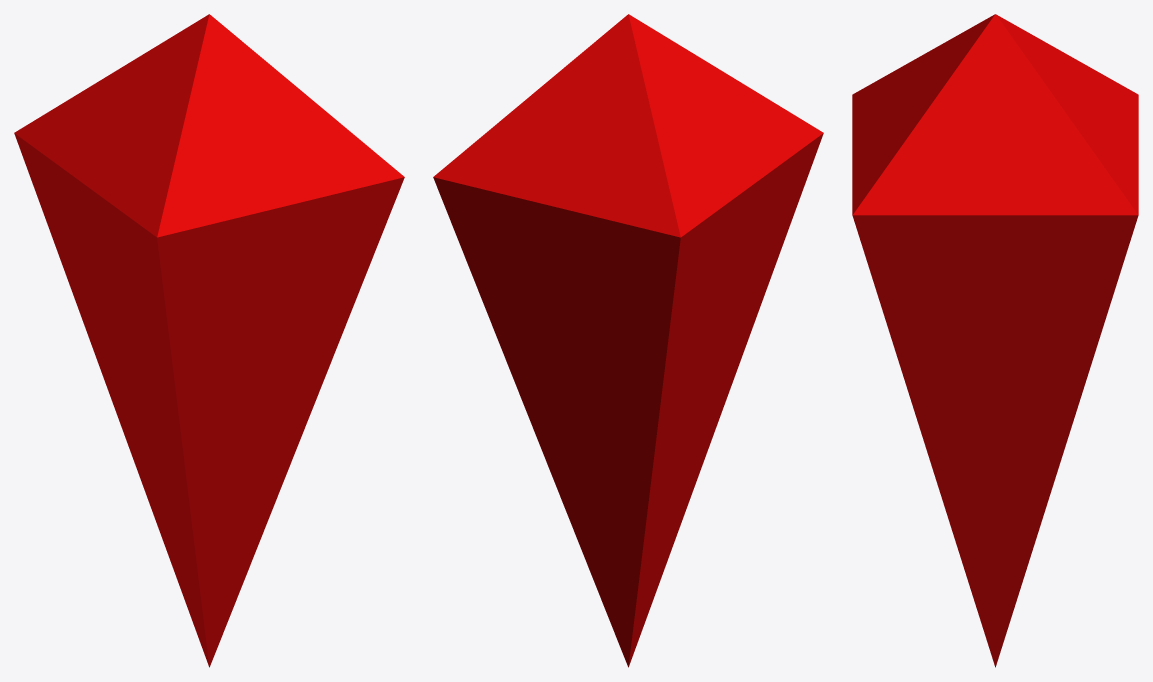
File: Locator.fbx
The picture shows the model from 3 angles, left to right: view 1: azimuth 30°, elevation 25°; view 2: azimuth 150°, elevation 25°; view 3: azimuth 270°, elevation 25°; orthographic projection.
Parts seen in each view (by area): view 1: locator; view 2: locator; view 3: locator.
Boxes of the visible parts, box(x1,y1,x2,y2) form: locator: box(14, 14, 404, 667); locator: box(433, 14, 823, 667); locator: box(852, 14, 1138, 667).
Bounding box in the file's own units: 0.01 × 0.0252 × 0.01.
